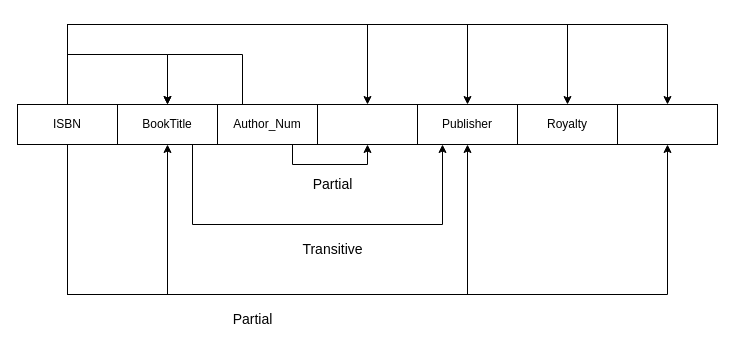
Some shapes in this 735 by 352 pixel diagram are drawn without their labels. The centre of each missing label's shape, as x and y in pixels:
Edition: (667,124)
LastName: (367,124)
